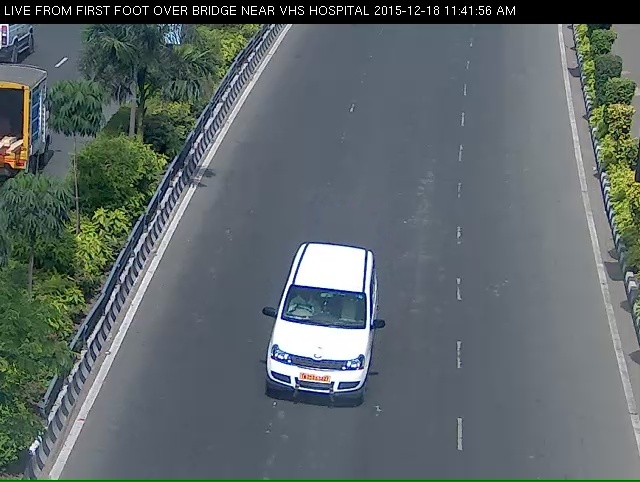Car: (240, 259, 393, 452)
